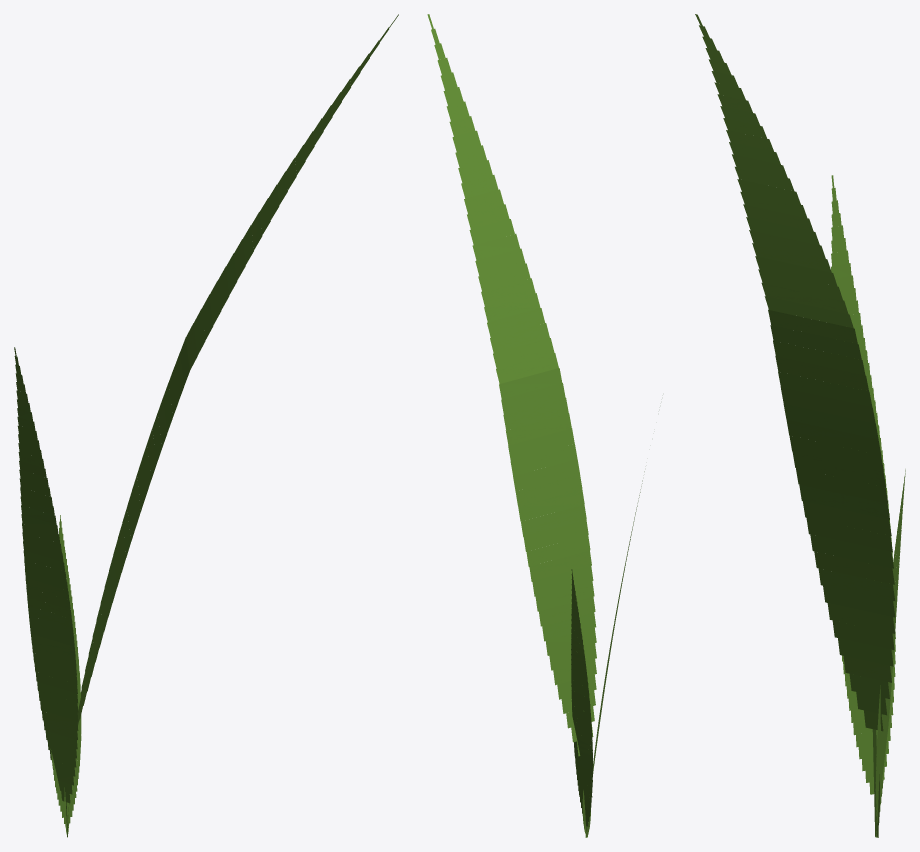
The model's file is maize_003_day_040.dae.
The picture shows the model from 3 angles, left to right: view 1: azimuth 30°, elevation 25°; view 2: azimuth 150°, elevation 25°; view 3: azimuth 270°, elevation 25°; orthographic projection. The views are drawn at different scales.
Visible parts, largest first — view 1: node; view 2: node; view 3: node.
Boxes of the visible parts, x1,y1,x2,y2 form: node: (14,14,398,837); node: (427,14,644,837); node: (695,14,905,837).
Size of the model in its own units: 0.0971 by 0.2309 by 0.0454.
Materials: 1 (1 with a texture image).
